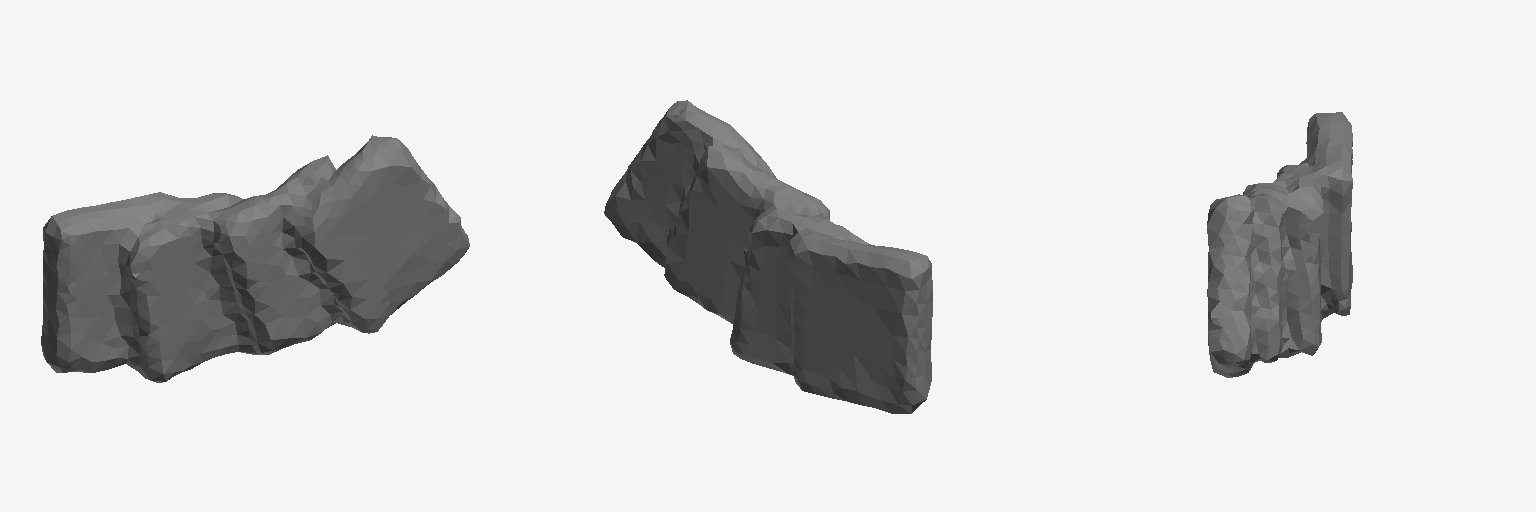
File: StonePlatform_B.obj
The picture shows the model from 3 angles: view 1: azimuth 30°, elevation 25°; view 2: azimuth 150°, elevation 25°; view 3: azimuth 270°, elevation 25°; orthographic projection.
Parts seen in each view (by area): view 1: Stone_B; view 2: Stone_B; view 3: Stone_B.
Part boxes in pixels (x1,y1,x2,y2): Stone_B: (41, 135, 469, 382); Stone_B: (604, 100, 932, 413); Stone_B: (1207, 112, 1352, 377).
Bounding box in the file's own units: 26 × 14.84 × 8.95.